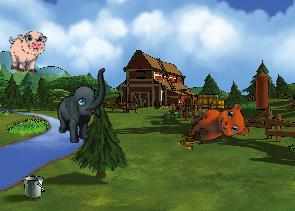bear: (184, 95, 254, 158)
elephant: (50, 68, 116, 145)
pig: (6, 29, 48, 74)
